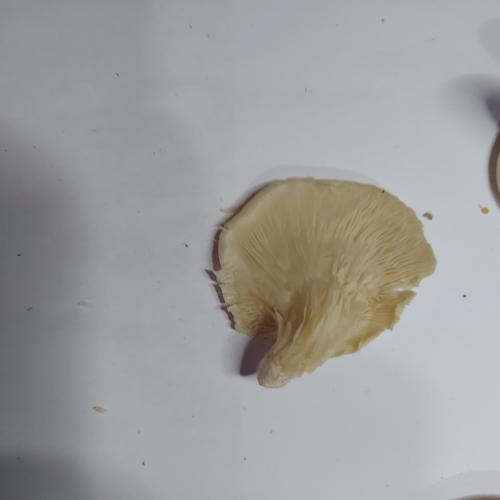Oyster Mushroom: (210, 175, 437, 389)
